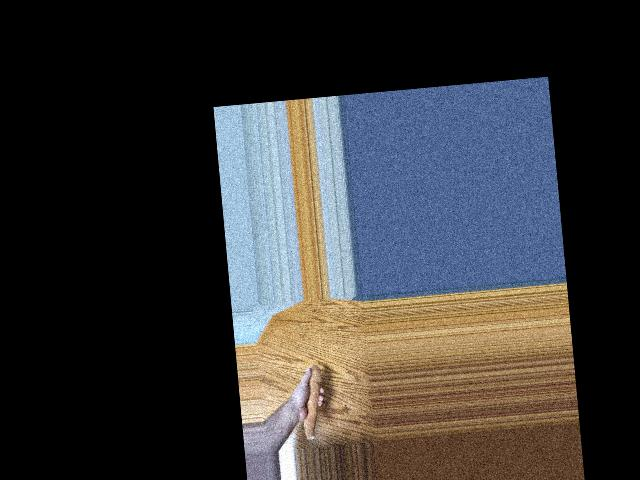sweet_potato: (295, 364, 328, 443)
